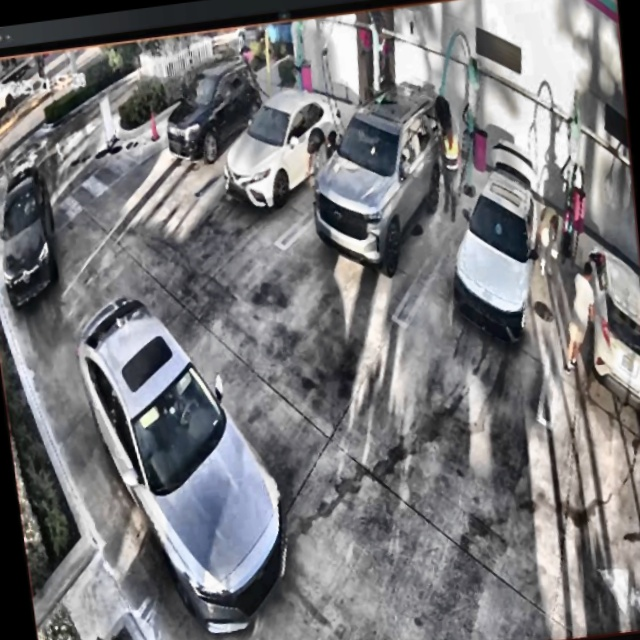Car: (72, 283, 299, 640), (300, 79, 454, 284), (441, 136, 556, 351), (220, 83, 348, 218), (161, 62, 265, 175)
